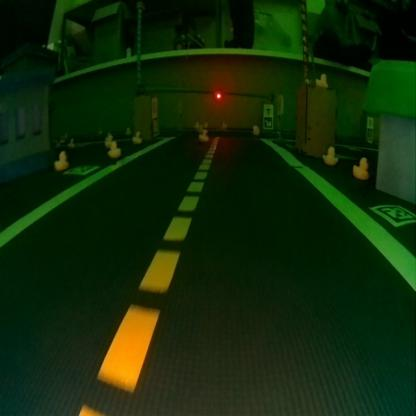Duckie: (352, 157, 370, 179), (322, 146, 338, 164), (53, 150, 68, 168), (314, 72, 328, 86), (107, 141, 119, 155), (104, 135, 112, 146), (199, 129, 207, 139), (132, 132, 138, 143), (253, 124, 259, 132), (221, 122, 227, 129)
Intersection sign: (263, 104, 272, 115)
QR code: (370, 203, 413, 224), (263, 118, 271, 128)
Traffic light: (214, 90, 222, 100)
